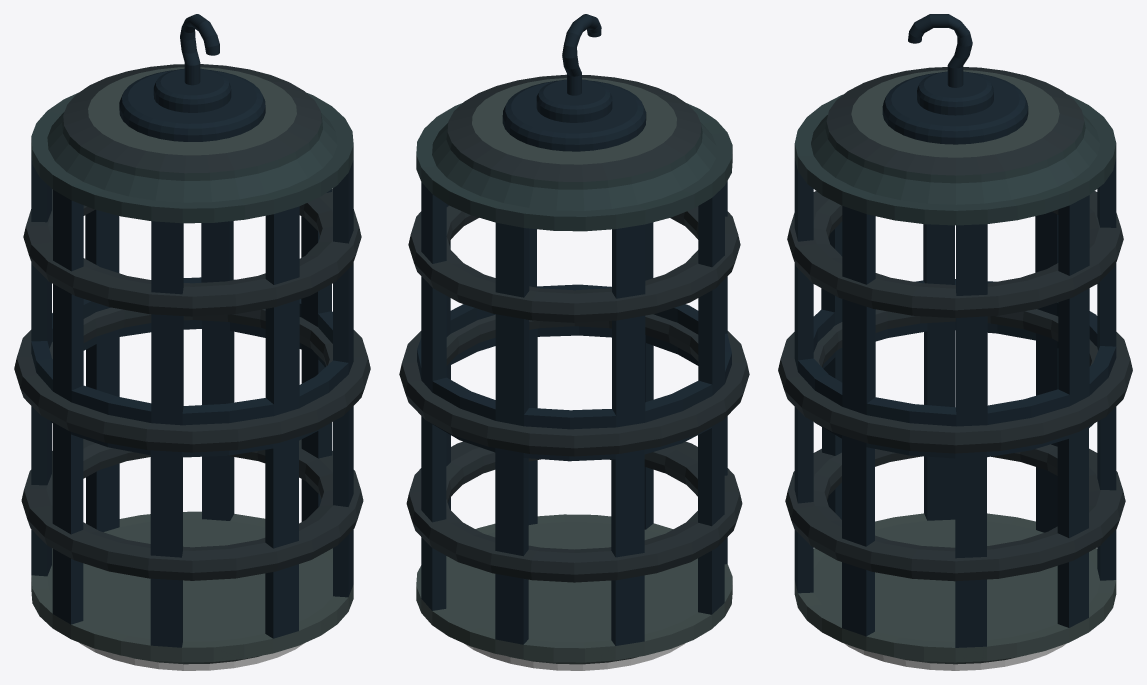
Rendered from Dungeon_Cage.glb.
3 views of the same model, side by side, from view 1: azimuth 30°, elevation 25°; view 2: azimuth 150°, elevation 25°; view 3: azimuth 270°, elevation 25° (orthographic).
Parts seen in each view (by area): view 1: Dungeon_Cage; view 2: Dungeon_Cage; view 3: Dungeon_Cage.
Part boxes in pixels (box(x1,y1,x2,y2)): Dungeon_Cage: box(14, 14, 370, 670); Dungeon_Cage: box(399, 14, 749, 670); Dungeon_Cage: box(778, 14, 1132, 670).
Size of the model in its own units: 2.21 by 4.18 by 2.21.
